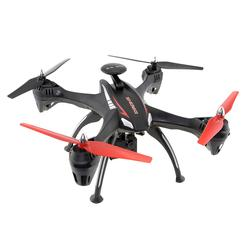drone: (8, 54, 240, 204)
